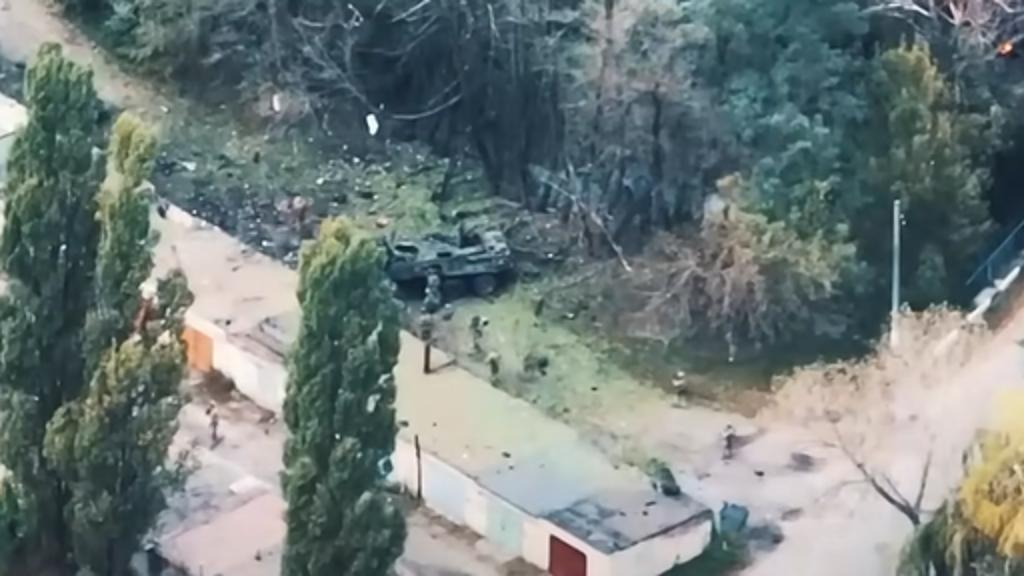APC-IFV: (332, 210, 522, 300)
